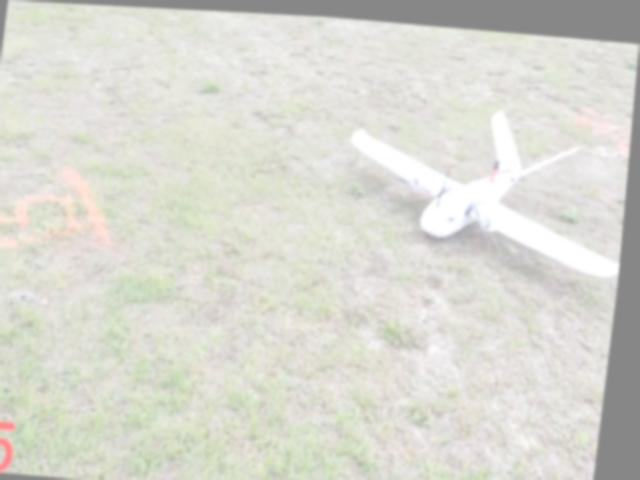plane: (341, 95, 634, 272)
